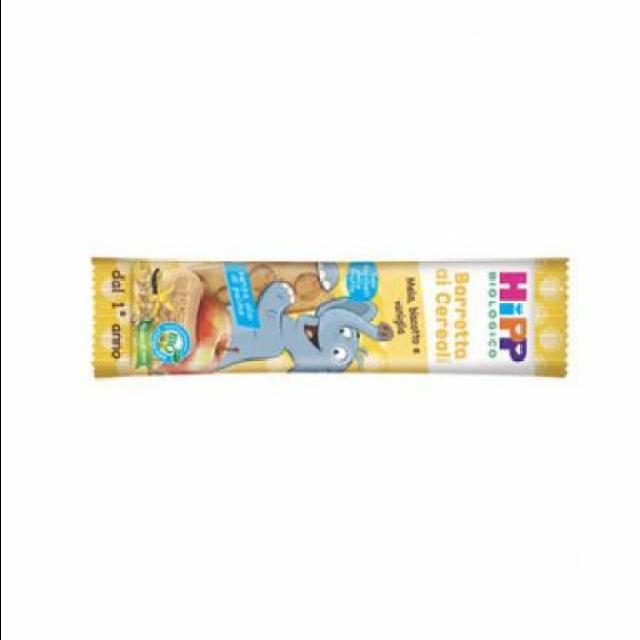Cereal bar: (83, 250, 572, 384)
